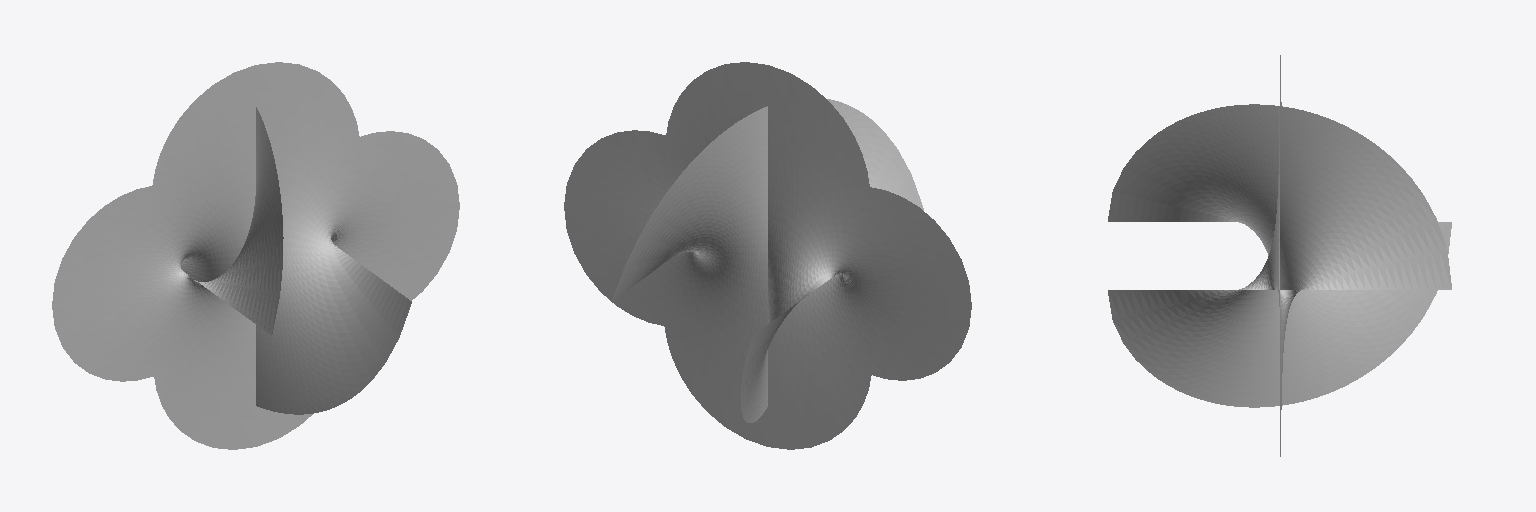
Rendered from dressed-helicoid.obj.
3 renders of one model, left to right at view 1: azimuth 30°, elevation 25°; view 2: azimuth 150°, elevation 25°; view 3: azimuth 270°, elevation 25°, orthographic.
Bounding box in the file's own units: 18.25 × 16.35 × 13.36.